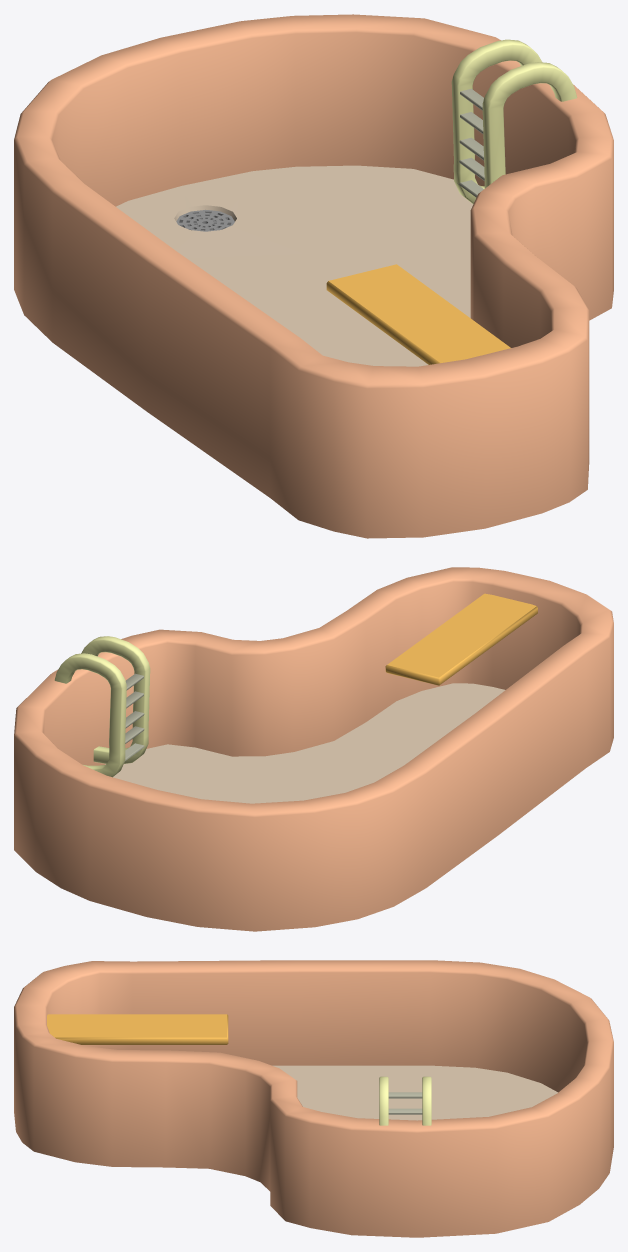
File: Pool.fbx
3 renders of one model, top to bottom at view 1: azimuth 30°, elevation 25°; view 2: azimuth 150°, elevation 25°; view 3: azimuth 270°, elevation 25°, orthographic. The views are drawn at different scales.
Parts seen in each view (by area): view 1: Lv49_Pool, Drain; view 2: Lv49_Pool; view 3: Lv49_Pool.
Boxes of the visible parts, <box> form: Lv49_Pool: <box>14,14,613,538</box>; Drain: <box>176,209,234,231</box>; Lv49_Pool: <box>14,567,613,931</box>; Lv49_Pool: <box>14,960,613,1237</box>.
Size of the model in its own units: 938 by 372 by 1385.
